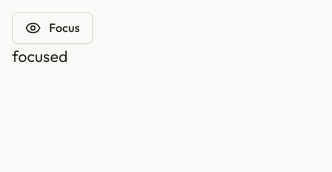
Test case: FocusModeToggle › toggles between focus and full view
Check: the text with test id "focus-state" reads "focused", box [12,46,68,66]
Click the button with test id "focus-mode-toggle" at (52, 28), box [12,12,92,44]
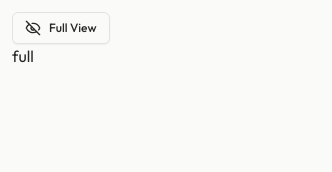
Check: the text with test id "focus-state" reads "full", box [12,46,34,66]
Click the button with test id "focus-mode-toggle" at (61, 28), box [12,12,110,44]
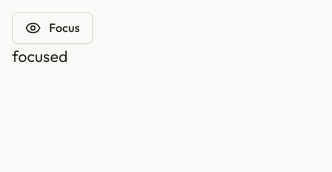
Check: the text with test id "focus-state" reads "focused", box [12,46,68,66]
